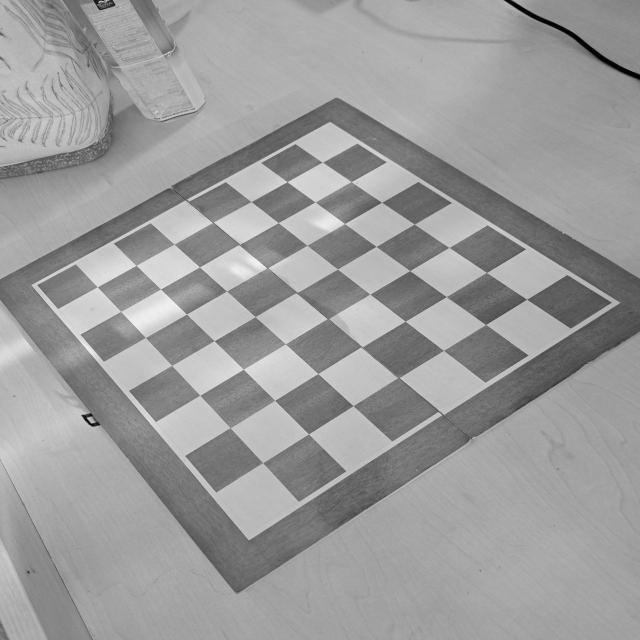chess-table-corners: (236, 524, 262, 542), (26, 278, 49, 293), (600, 296, 622, 310), (318, 119, 339, 133)
